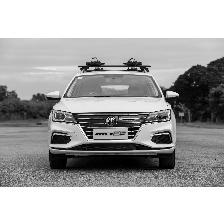EV: (47, 71, 184, 171)
